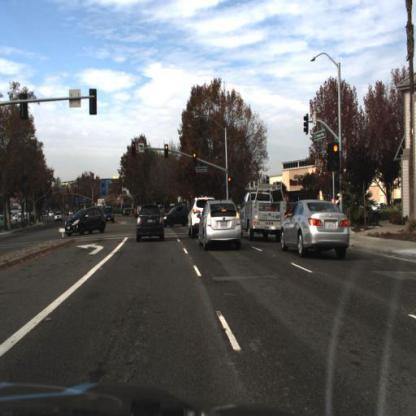car: (281, 199, 351, 263), (241, 176, 290, 241), (240, 190, 284, 245), (198, 198, 243, 251), (62, 202, 109, 238), (135, 205, 166, 245), (137, 207, 166, 245), (188, 195, 212, 239), (65, 209, 105, 235), (162, 202, 193, 232), (186, 196, 208, 235), (161, 206, 190, 230), (105, 206, 117, 227), (107, 208, 118, 227), (54, 210, 64, 226)
trafficLight: (227, 174, 233, 188)
trafficLight-Red: (330, 141, 341, 175), (331, 144, 341, 171), (226, 176, 235, 199), (164, 144, 171, 160), (165, 143, 171, 161), (193, 151, 198, 171), (193, 152, 198, 170)
trafficLight-RedLeft: (131, 138, 138, 159), (131, 141, 137, 162)
